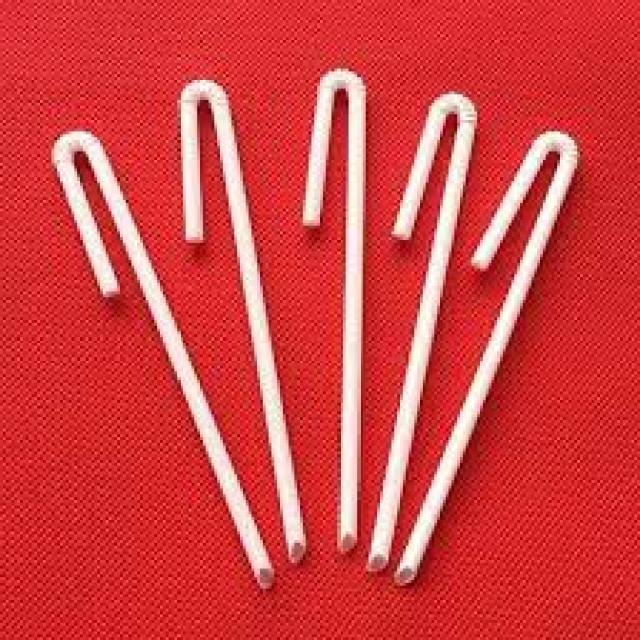straw: (52, 132, 274, 588), (398, 132, 578, 584), (179, 80, 306, 562), (371, 92, 475, 572), (302, 69, 366, 551)
